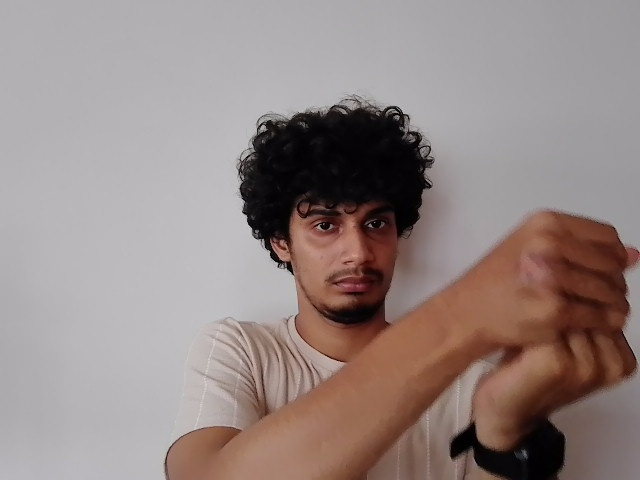with: (467, 203, 640, 412)
